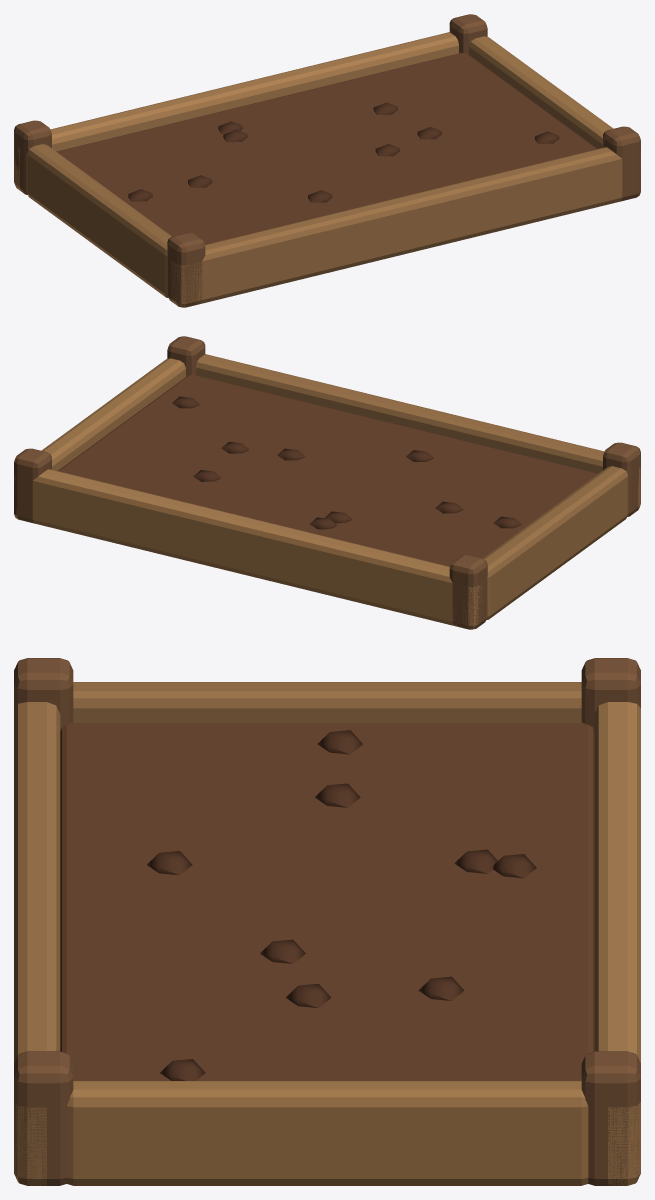
File: flower_bed.fbx
The picture shows the model from 3 angles, top to bottom: view 1: azimuth 30°, elevation 25°; view 2: azimuth 150°, elevation 25°; view 3: azimuth 270°, elevation 25°; orthographic projection. The views are drawn at different scales.
Visible parts, largest first — view 1: flower_bed, flower_bed_soil; view 2: flower_bed, flower_bed_soil; view 3: flower_bed_soil, flower_bed.
Part boxes in pixels (<box>): flower_bed: <box>14,14,640,307</box>; flower_bed_soil: <box>56,53,596,244</box>; flower_bed: <box>14,336,640,629</box>; flower_bed_soil: <box>58,375,598,566</box>; flower_bed_soil: <box>60,723,594,1080</box>; flower_bed: <box>14,658,640,1185</box>.
Size of the model in its own units: 1.5 by 0.2 by 0.95.
